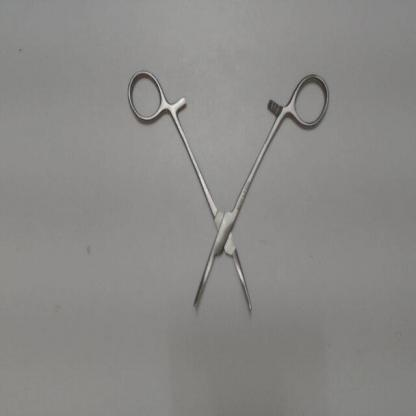Crile Artery Forceps: (117, 60, 335, 320)
